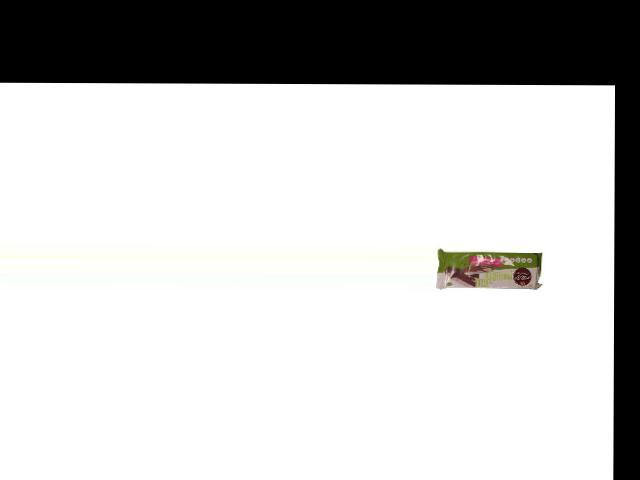chocolate: (436, 249, 545, 293)
